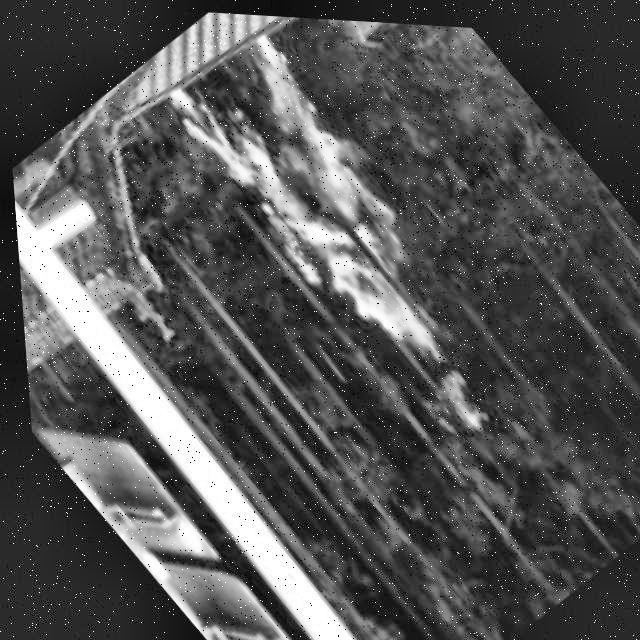Fire: (132, 13, 553, 465)
